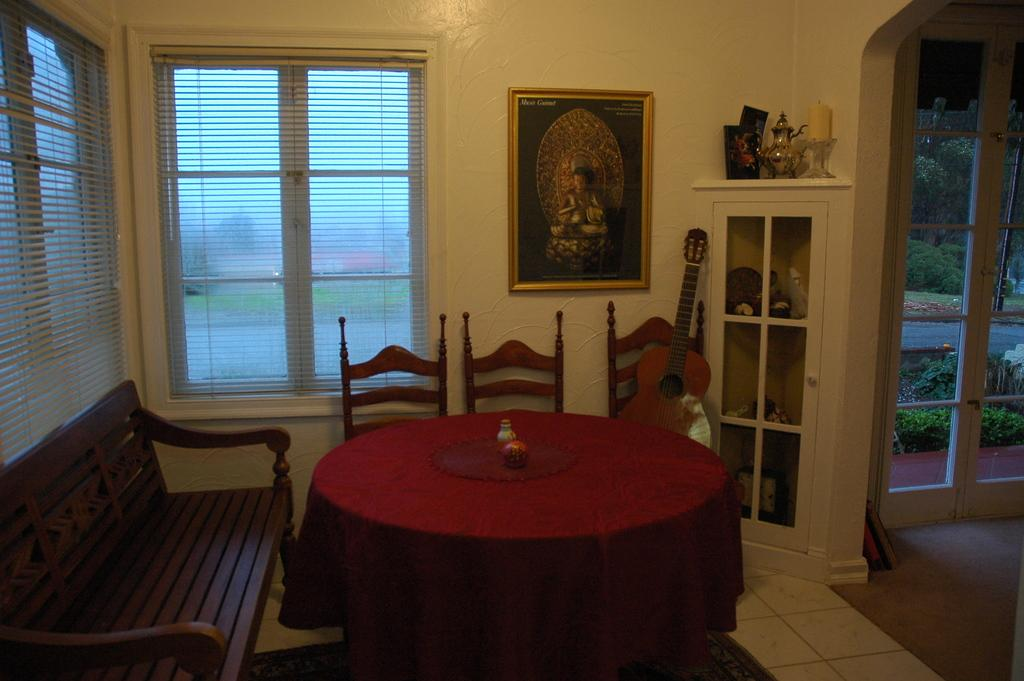Chair: (610, 299, 745, 513), (335, 313, 445, 441), (460, 311, 565, 411)
